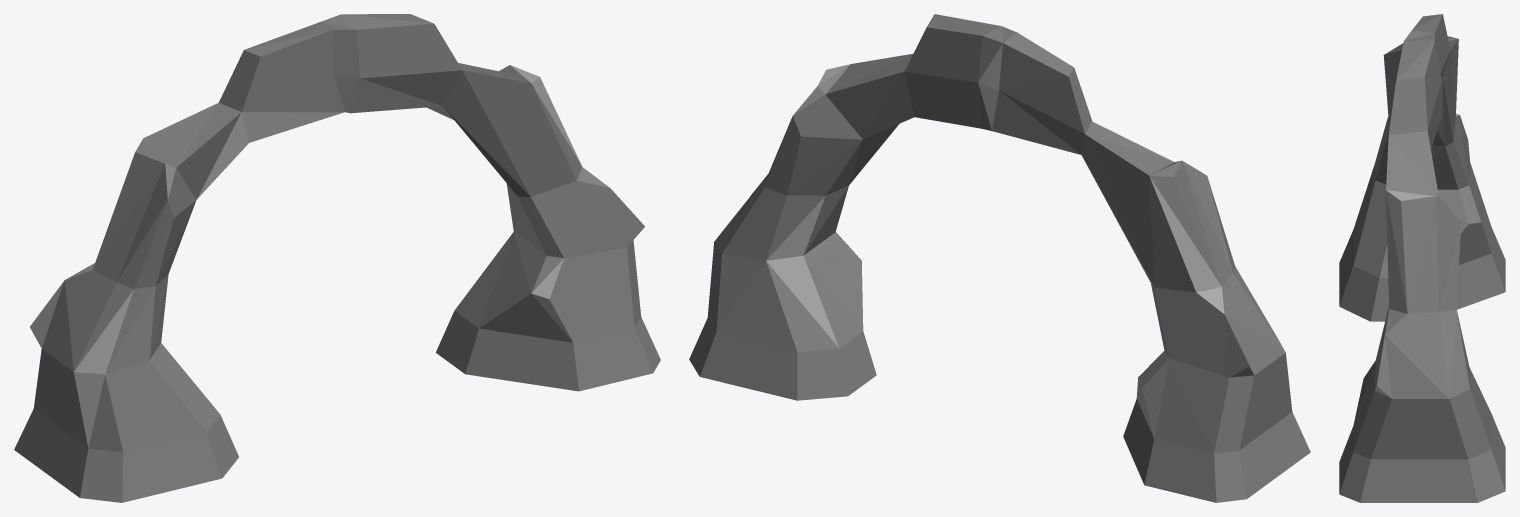
Rendered from ruin_3.fbx.
The picture shows the model from 3 angles, left to right: view 1: azimuth 30°, elevation 25°; view 2: azimuth 150°, elevation 25°; view 3: azimuth 270°, elevation 25°; orthographic projection. The views are drawn at different scales.
Parts seen in each view (by area): view 1: ruin_3; view 2: ruin_3; view 3: ruin_3.
Boxes of the visible parts, x1,y1,x2,y2 form: ruin_3: (14,14,660,502); ruin_3: (689,14,1310,502); ruin_3: (1339,14,1505,502).
Bounding box in the file's own units: 260 × 165 × 72.59.
